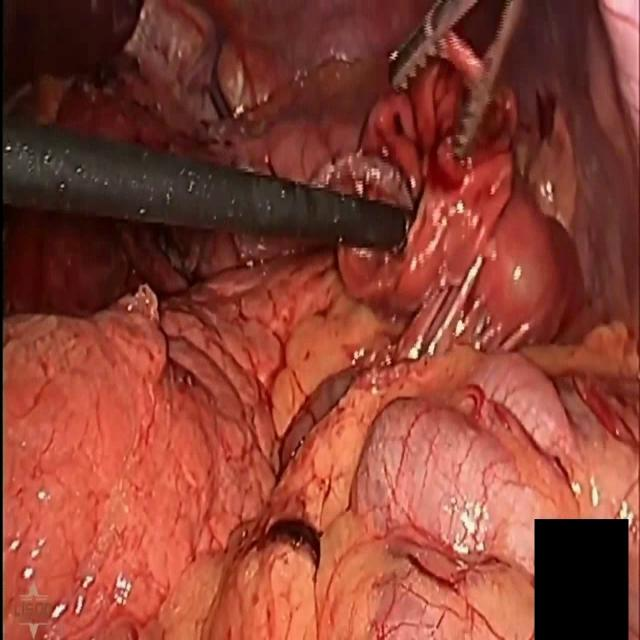surgical-area: (0, 0, 640, 639)
surgical-tool: (0, 109, 407, 251), (388, 0, 528, 162)
